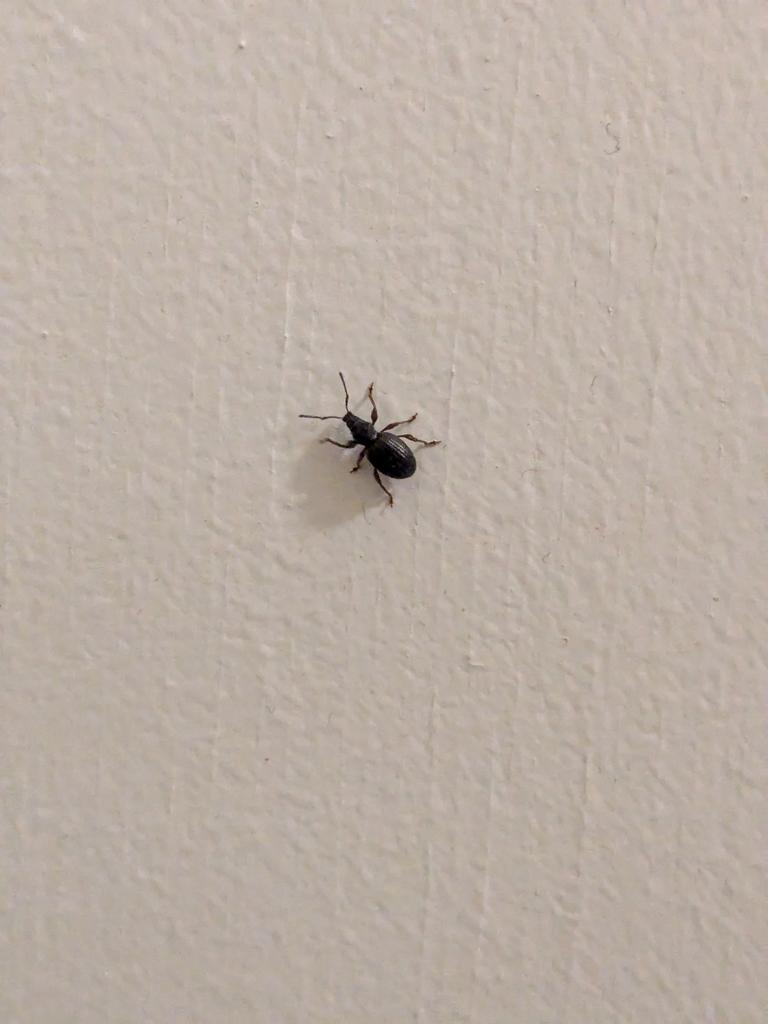weevils: (267, 347, 463, 540)
